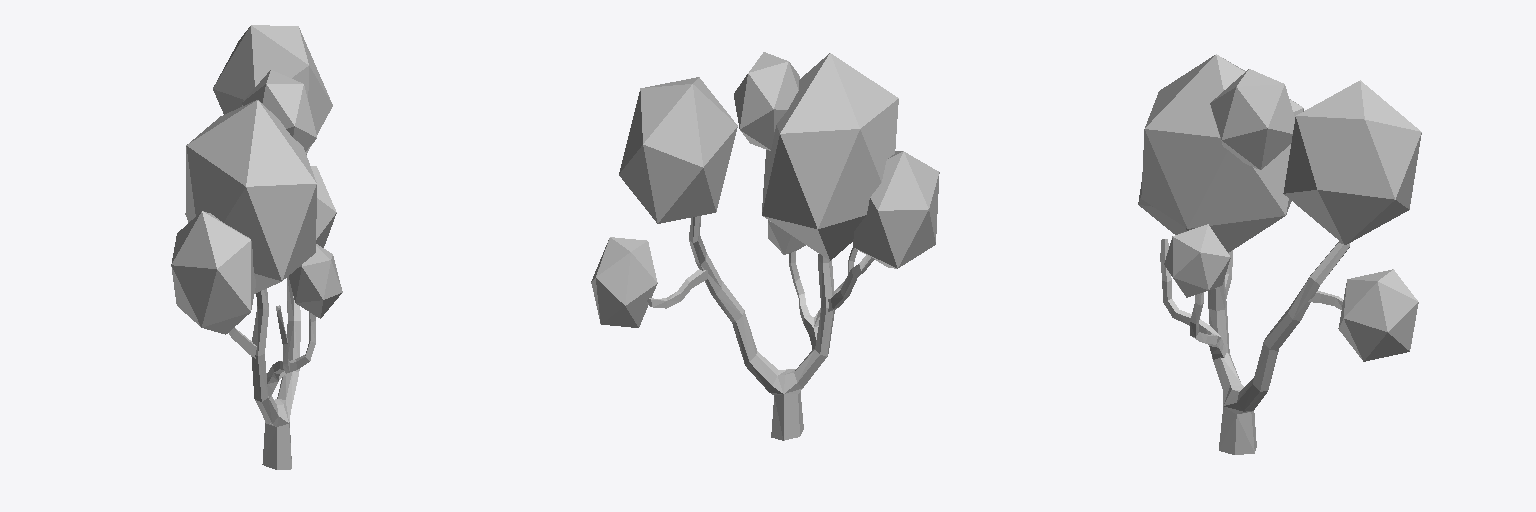
Rendered from TreeScaled.obj.
The picture shows the model from 3 angles: view 1: azimuth 30°, elevation 25°; view 2: azimuth 150°, elevation 25°; view 3: azimuth 270°, elevation 25°; orthographic projection.
Visible parts, largest first — view 1: Default.001; view 2: Default.001; view 3: Default.001.
Part boxes in pixels (bbox=[...]): Default.001: bbox=[171, 25, 342, 469]; Default.001: bbox=[591, 52, 939, 440]; Default.001: bbox=[1138, 54, 1421, 454].
Bounding box in the file's own units: 1 × 1.5 × 1.